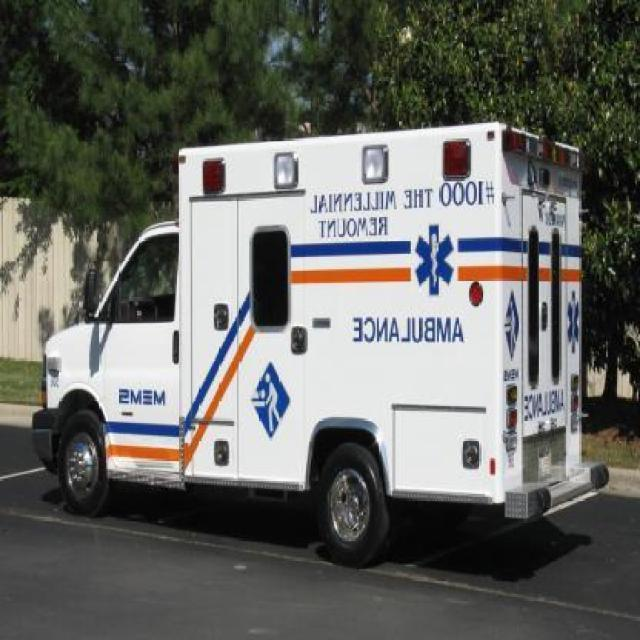emergency: (31, 119, 610, 567)
